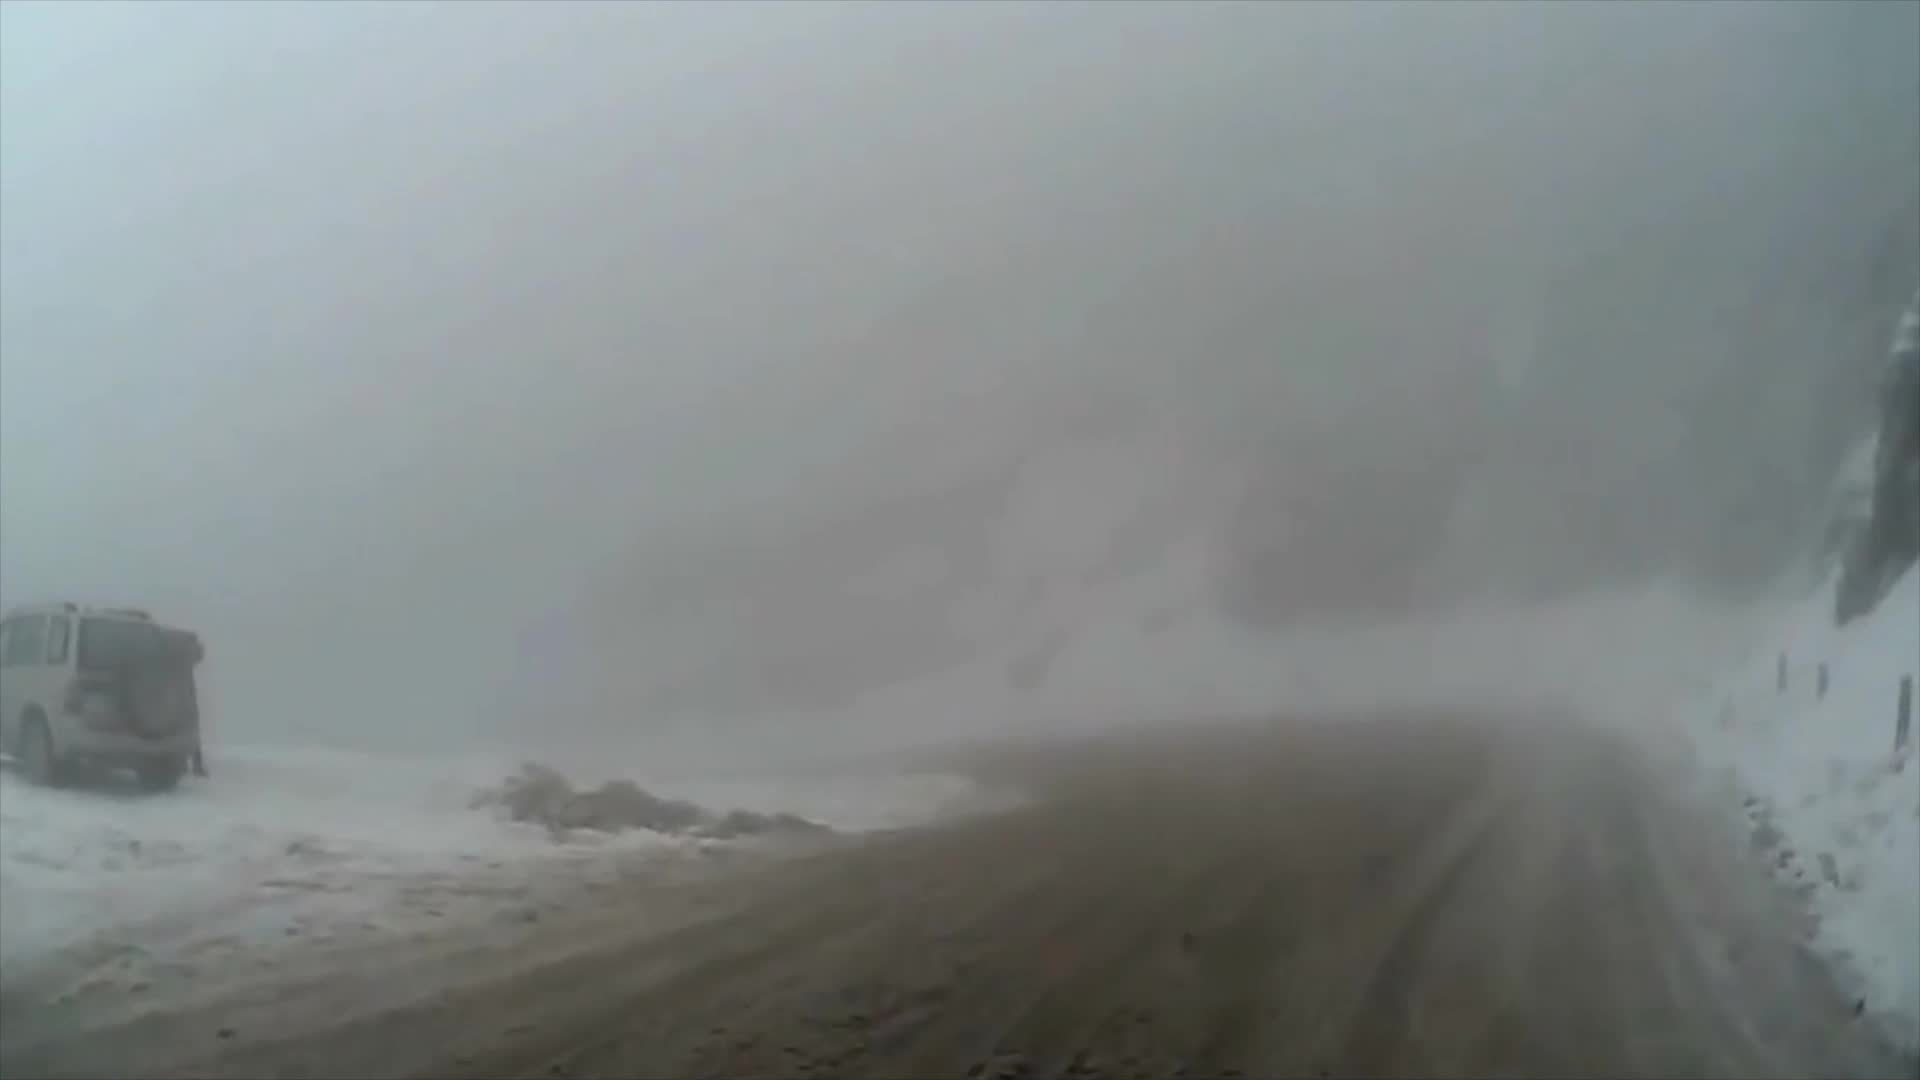vehicle: (0, 605, 189, 796)
